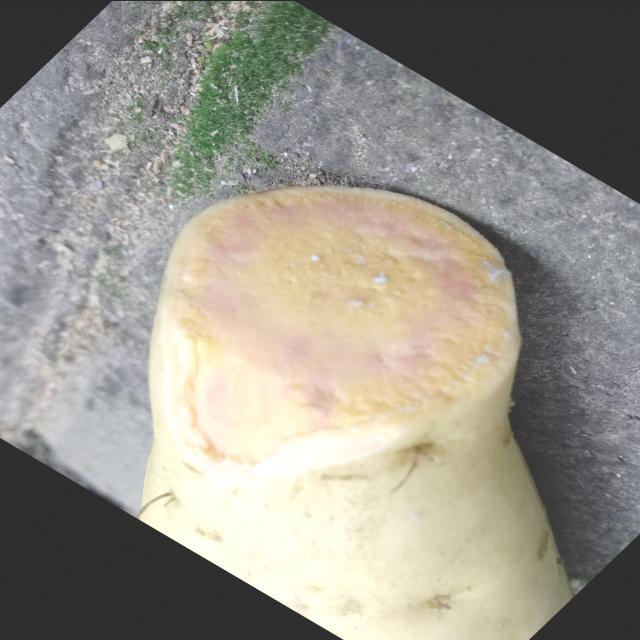Healthy Sweet Potato: (160, 185, 520, 481)
